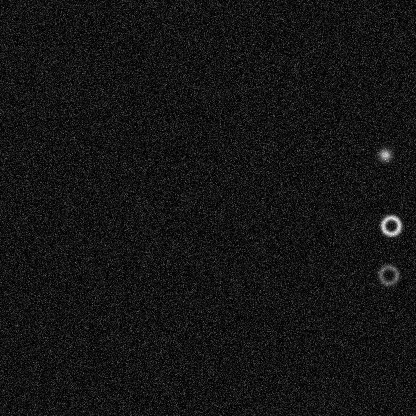Ring: (378, 213, 402, 237), (376, 262, 400, 286)
Spot: (376, 146, 392, 162)
